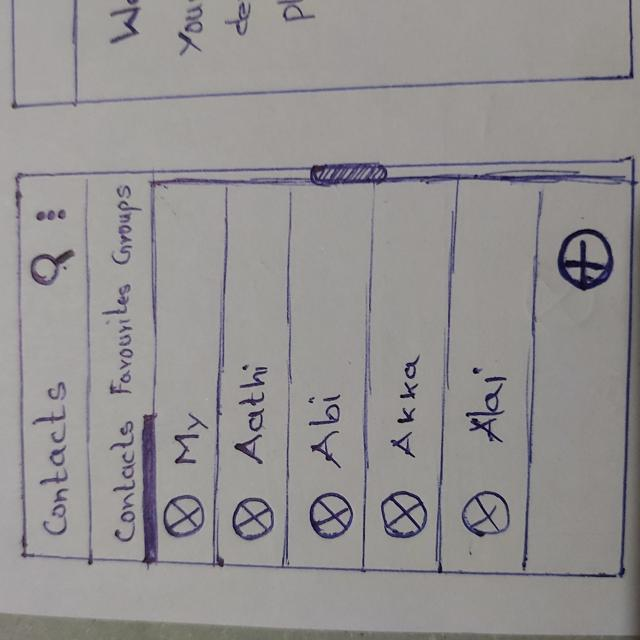ActionButton: (18, 245, 90, 296), (17, 195, 87, 235)
AppBar: (13, 171, 98, 568)
Fab: (554, 229, 613, 294)
Icon: (32, 250, 80, 288), (34, 206, 70, 224)
Layout: (436, 181, 536, 573), (364, 182, 451, 569), (286, 186, 367, 569), (216, 183, 292, 563), (149, 186, 224, 564)
ListView: (153, 183, 535, 569)
MainLayout: (10, 156, 630, 580)
RoundedImage: (379, 492, 428, 541), (463, 491, 513, 538), (310, 492, 353, 540), (161, 497, 206, 540), (231, 499, 272, 540)
ScrollBar: (157, 166, 635, 182)
Tab: (85, 172, 157, 566)
TabItem: (84, 413, 157, 564), (89, 278, 156, 400), (86, 178, 155, 272)
TextView: (36, 377, 71, 542), (389, 353, 423, 472), (238, 362, 269, 466), (305, 397, 346, 472), (471, 365, 504, 450), (177, 412, 204, 471)
VerticalListView: (151, 183, 540, 569)
